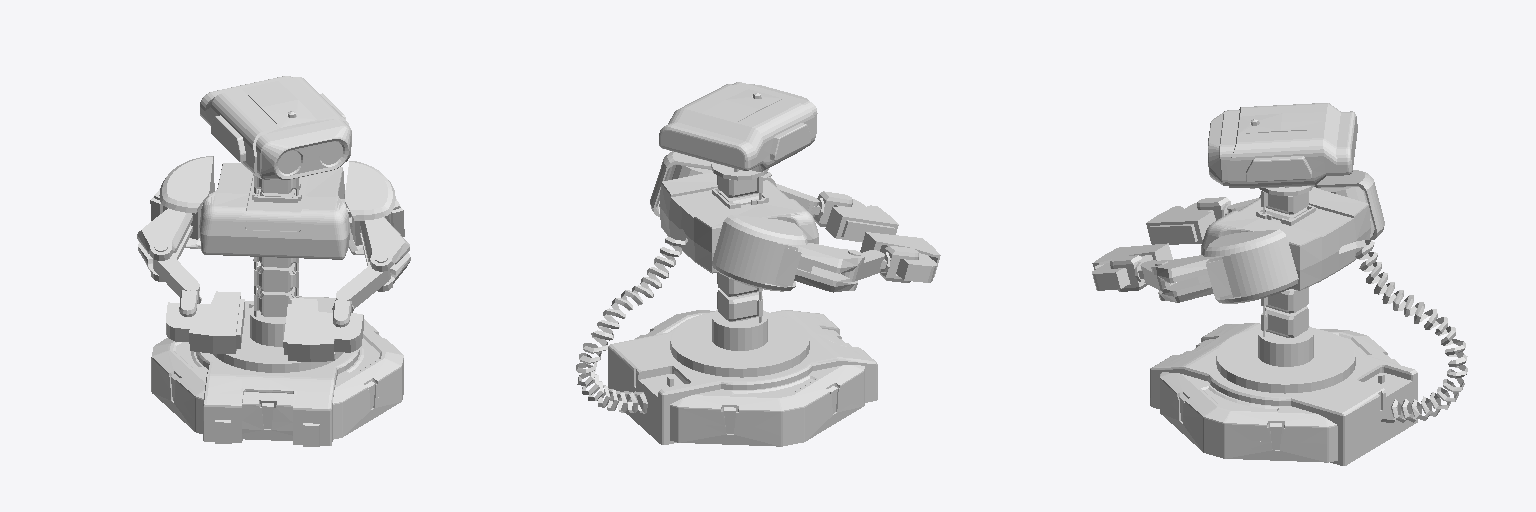
Rendered from DolRobotR1.obj.
3 views of the same model, side by side, from view 1: azimuth 30°, elevation 25°; view 2: azimuth 150°, elevation 25°; view 3: azimuth 270°, elevation 25° (orthographic).
Visible parts, largest first — view 1: polygon29, polygon0, polygon60; view 2: polygon0, polygon29; view 3: polygon0, polygon29.
Boxes of the visible parts, box(x1,y1,x2,y2) form: polygon29: box(137, 76, 410, 361); polygon0: box(151, 156, 403, 446); polygon60: box(278, 141, 342, 173); polygon0: box(576, 151, 895, 446); polygon29: box(659, 82, 940, 320); polygon0: box(1148, 170, 1467, 465); polygon29: box(1092, 103, 1372, 337).
Size of the model in its own units: 12.76 by 14.1 by 16.23.